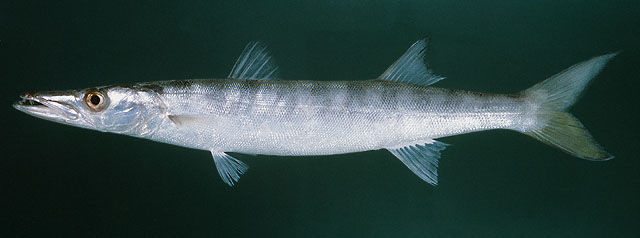fish: (12, 38, 623, 189)
